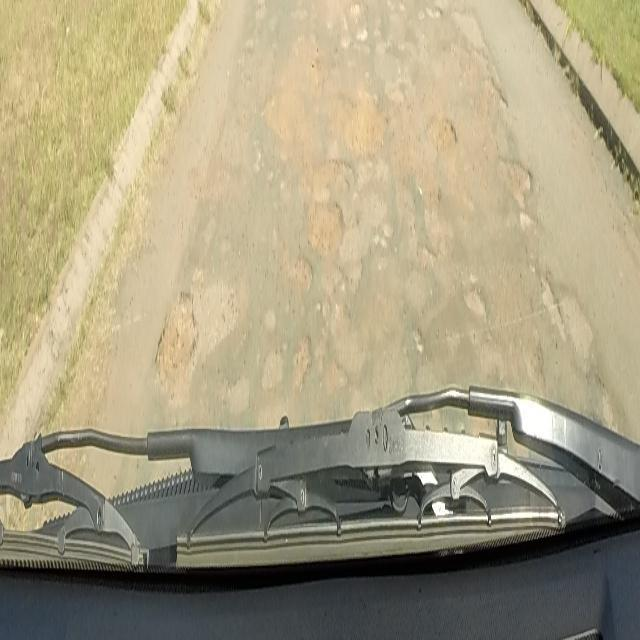pothole: (154, 284, 198, 398), (342, 99, 387, 164), (308, 191, 346, 255), (422, 104, 458, 154)
